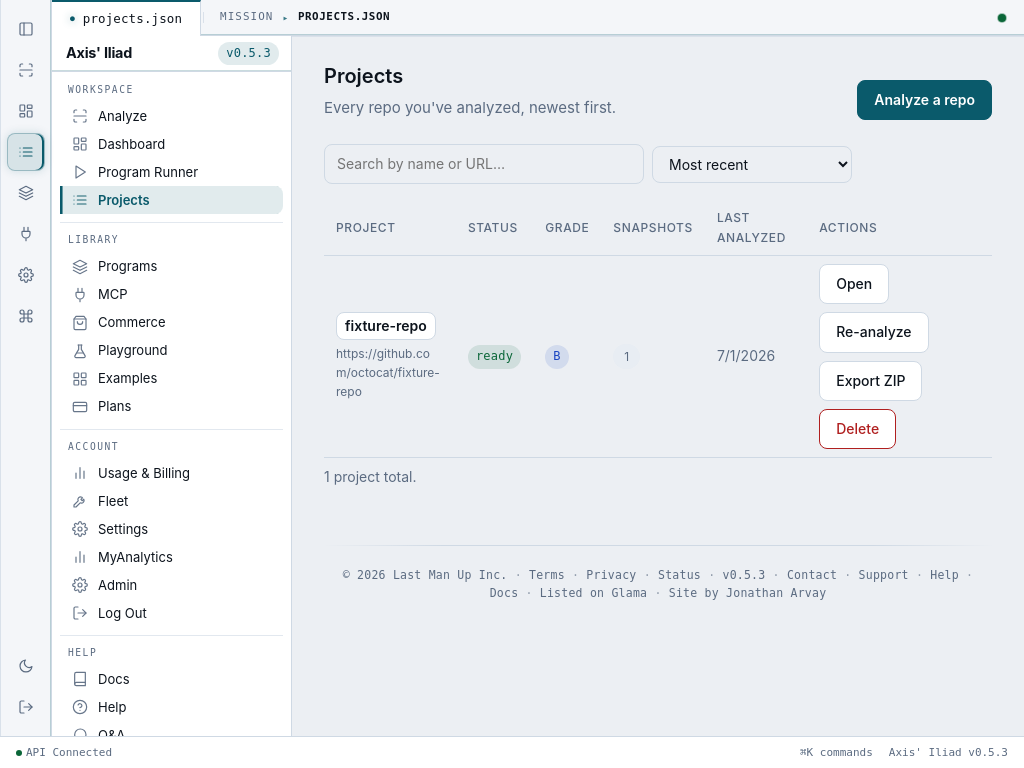
it: Projects/History (WO-P11) › Re-analyze navigates to #analyze with the GitHub URL field pre-filled
This screenshot has width=1024, height=768.
Expected: the button "fixture-repo" is shown, left=336, top=312, right=436, bottom=340
Click the button "Re-analyze": (874, 332) left=819, top=312, right=929, bottom=353
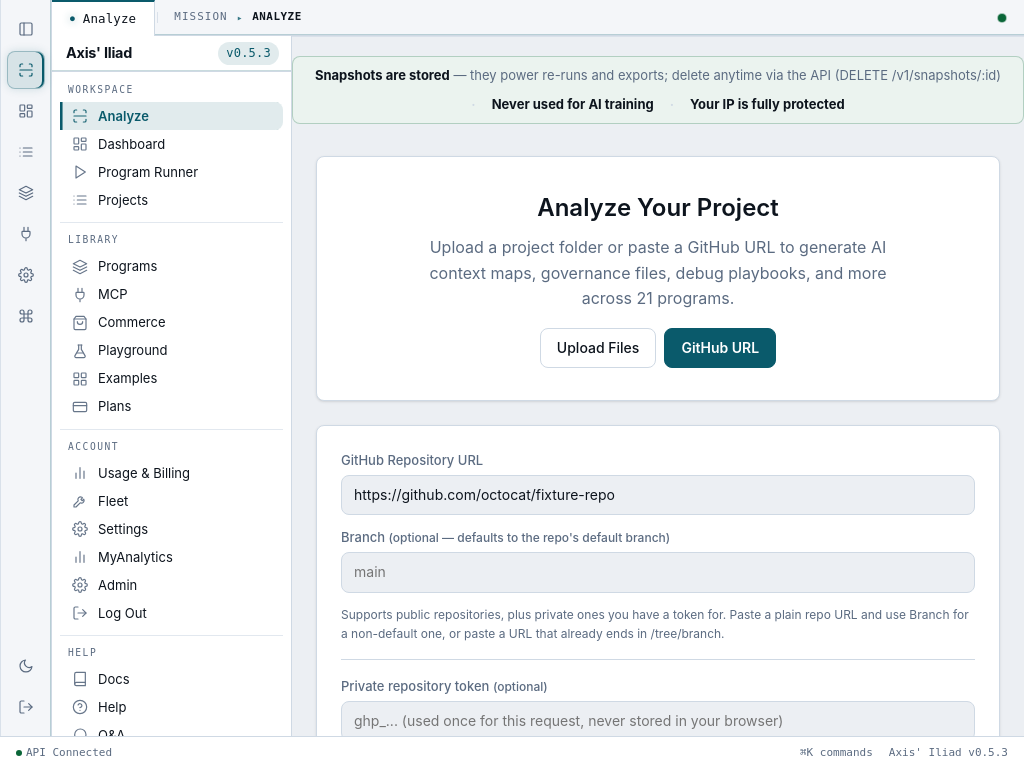
Now the field with placeholder "https://github.com/owner/repo" holds "https://github.com/octocat/fixture-repo", box left=341, top=475, right=975, bottom=515
